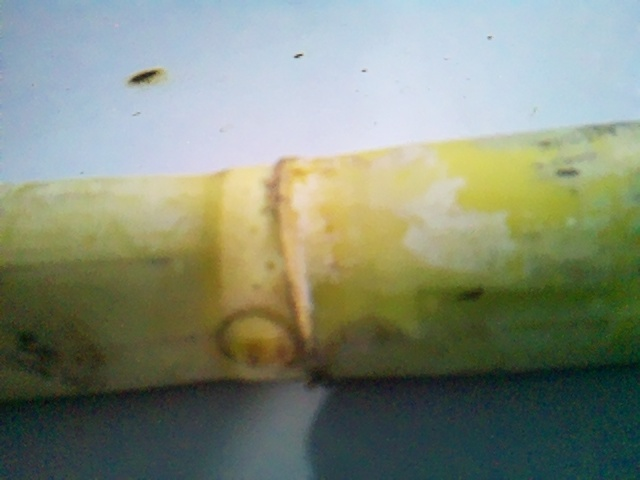Good Sugarcane: (2, 114, 640, 405)
Node: (195, 152, 338, 388)
